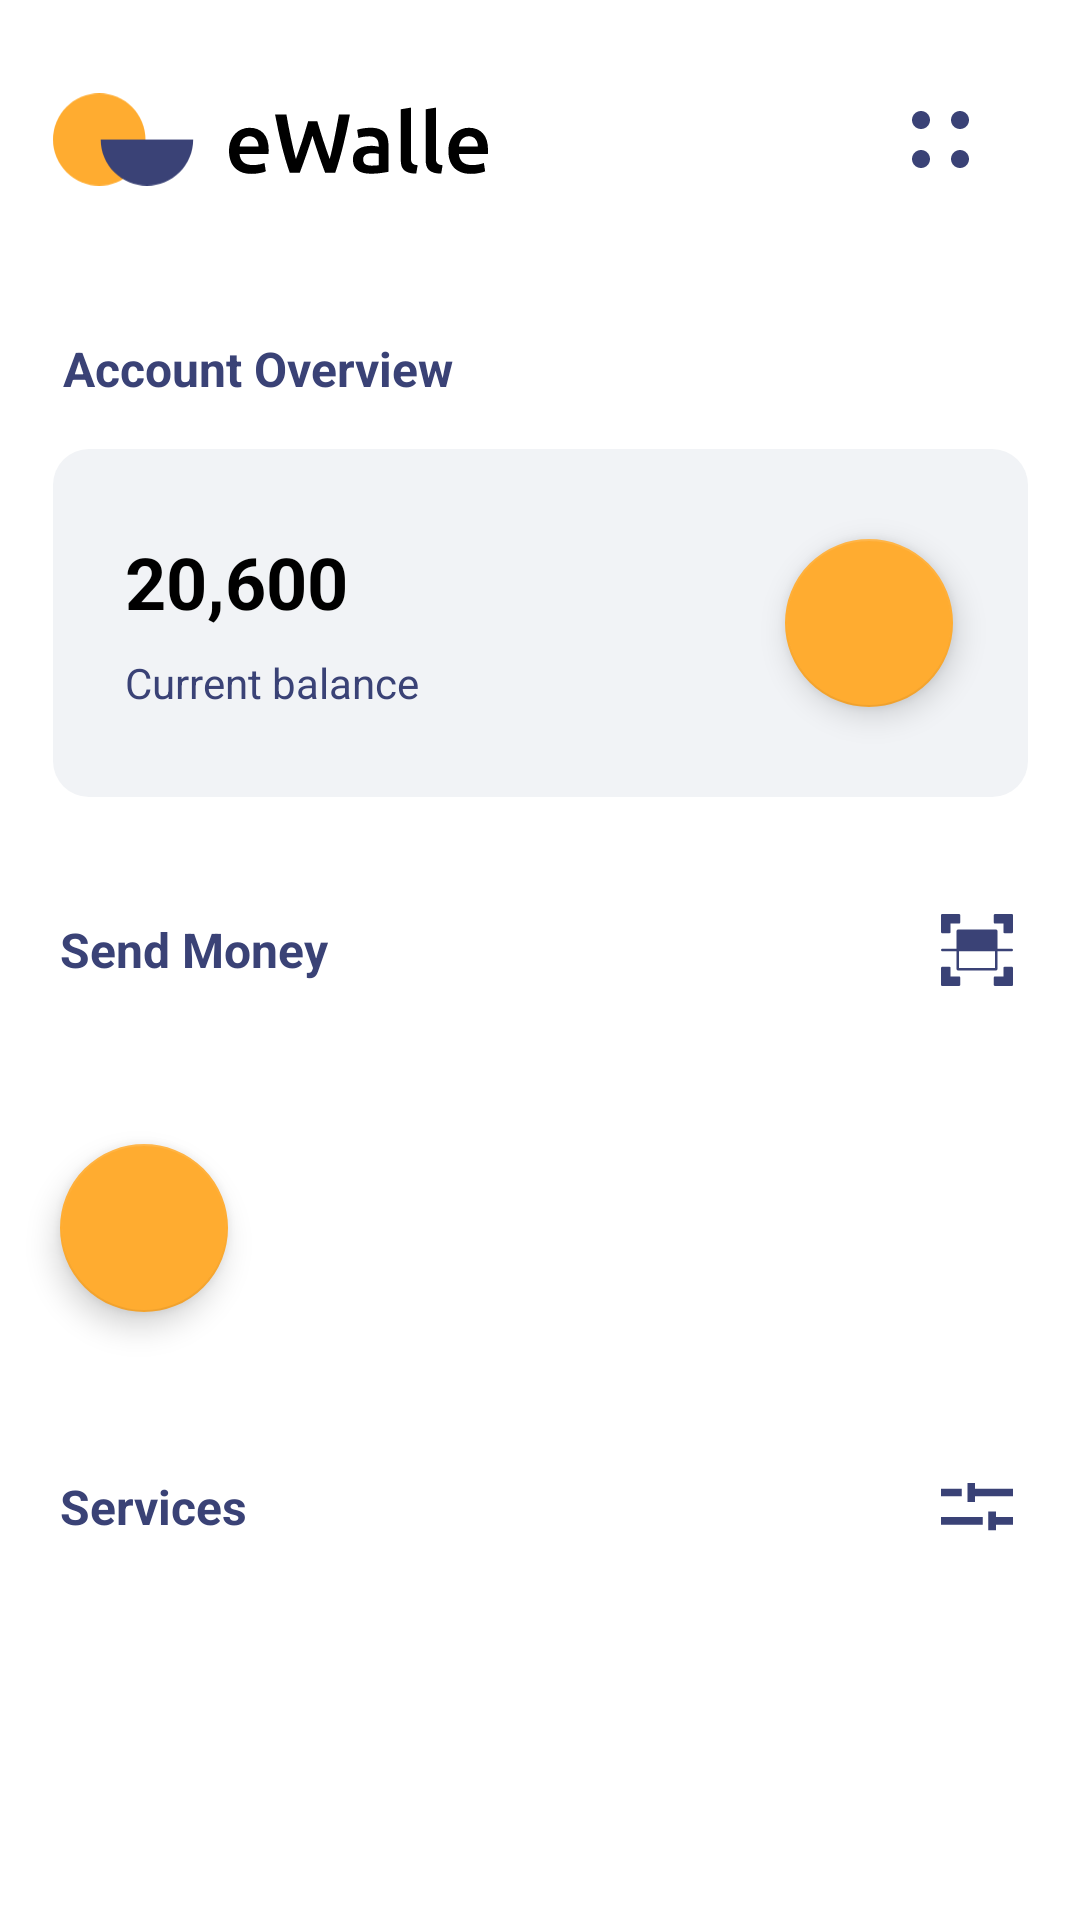

Icon bounding boxes for this 1080 × 1920 phone screenshot, format rect(x1, y1, x2, y2):
scanner: rect(941, 914, 1013, 986)
